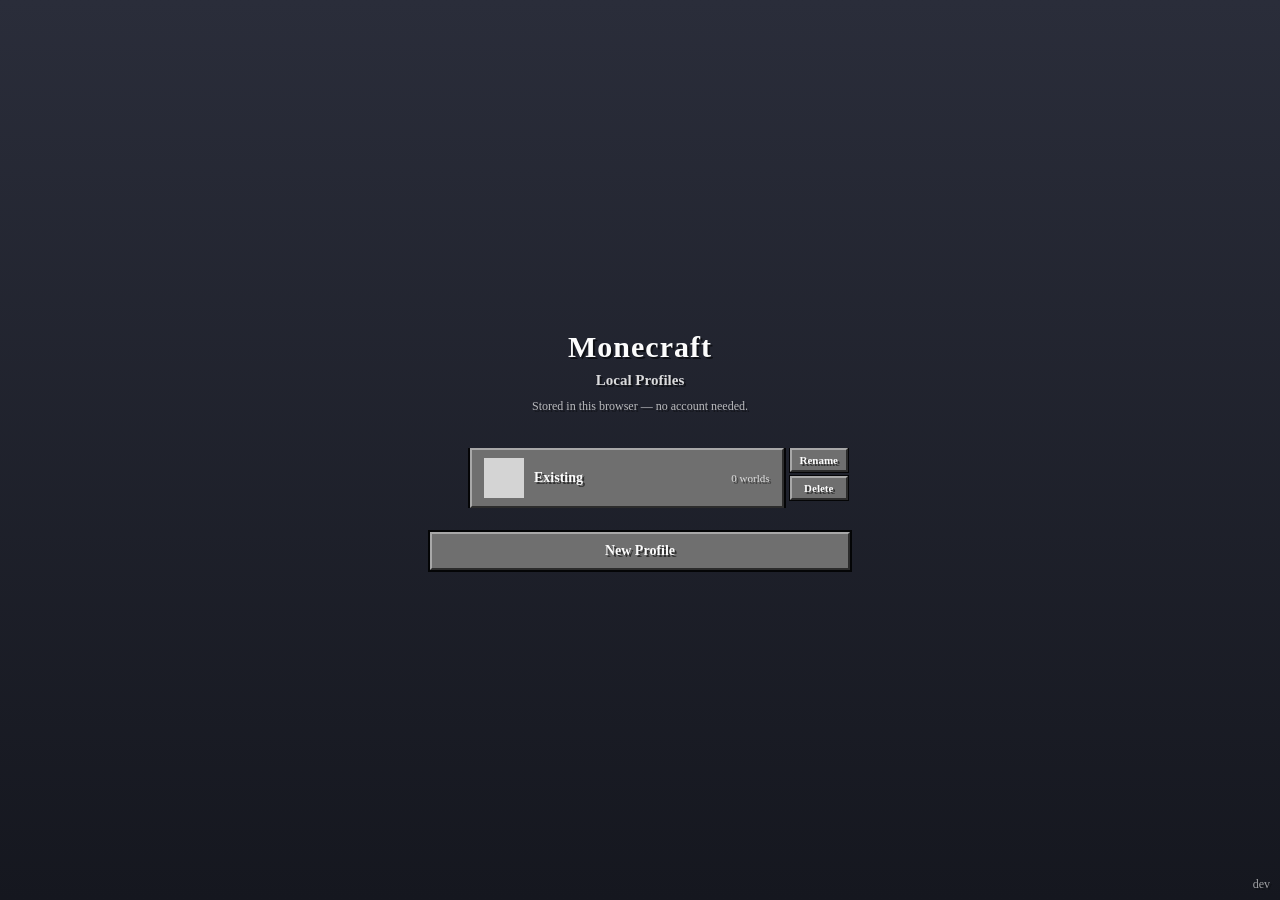
it: ProfileSelect › adding another profile from the list persists it and enters it
Step 1. Click the button with test id "new-profile" → (640, 551), box [430,532,850,570]
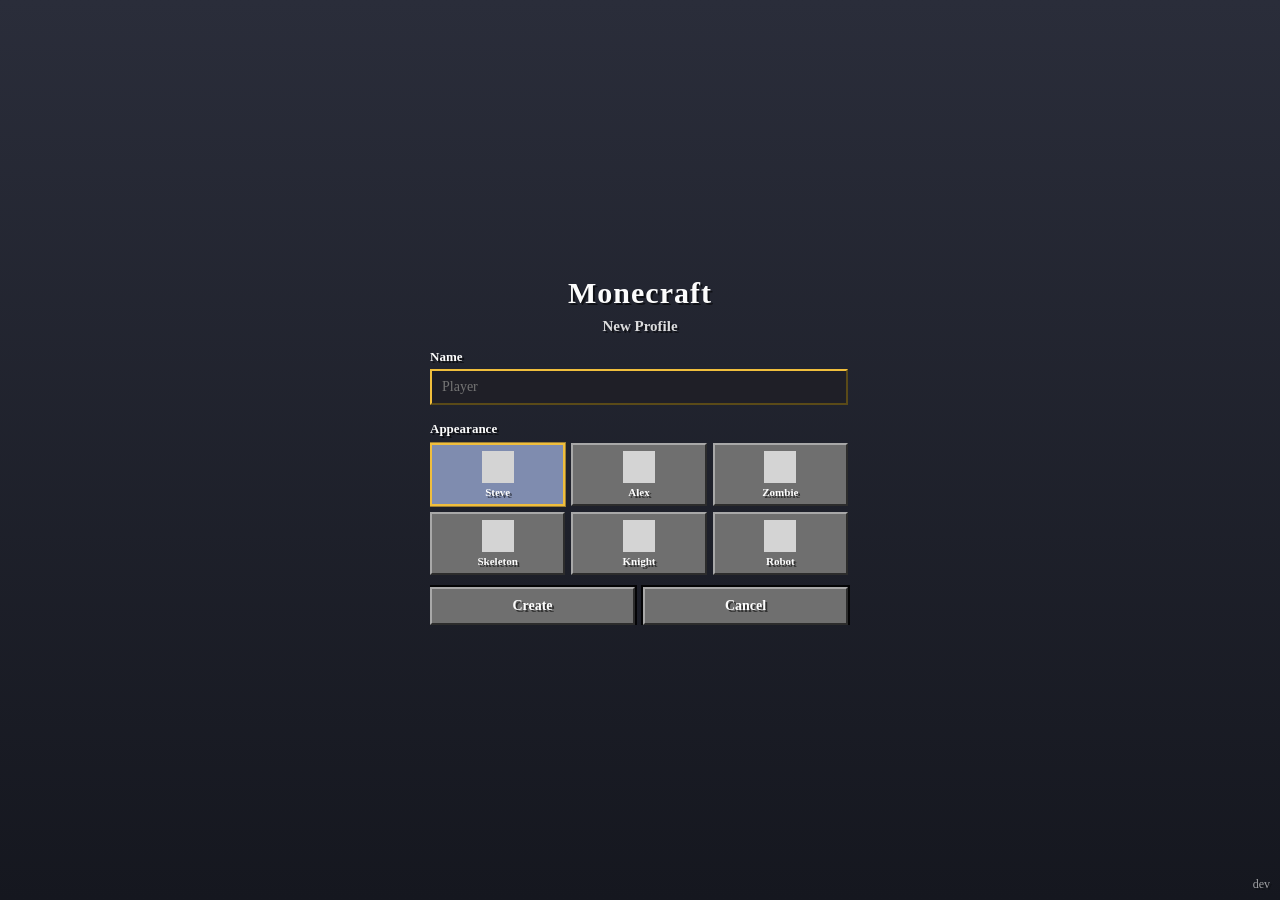
Step 2. Type "Charlie" into the field named "Profile name" → (639, 386), box [430,368,848,404]
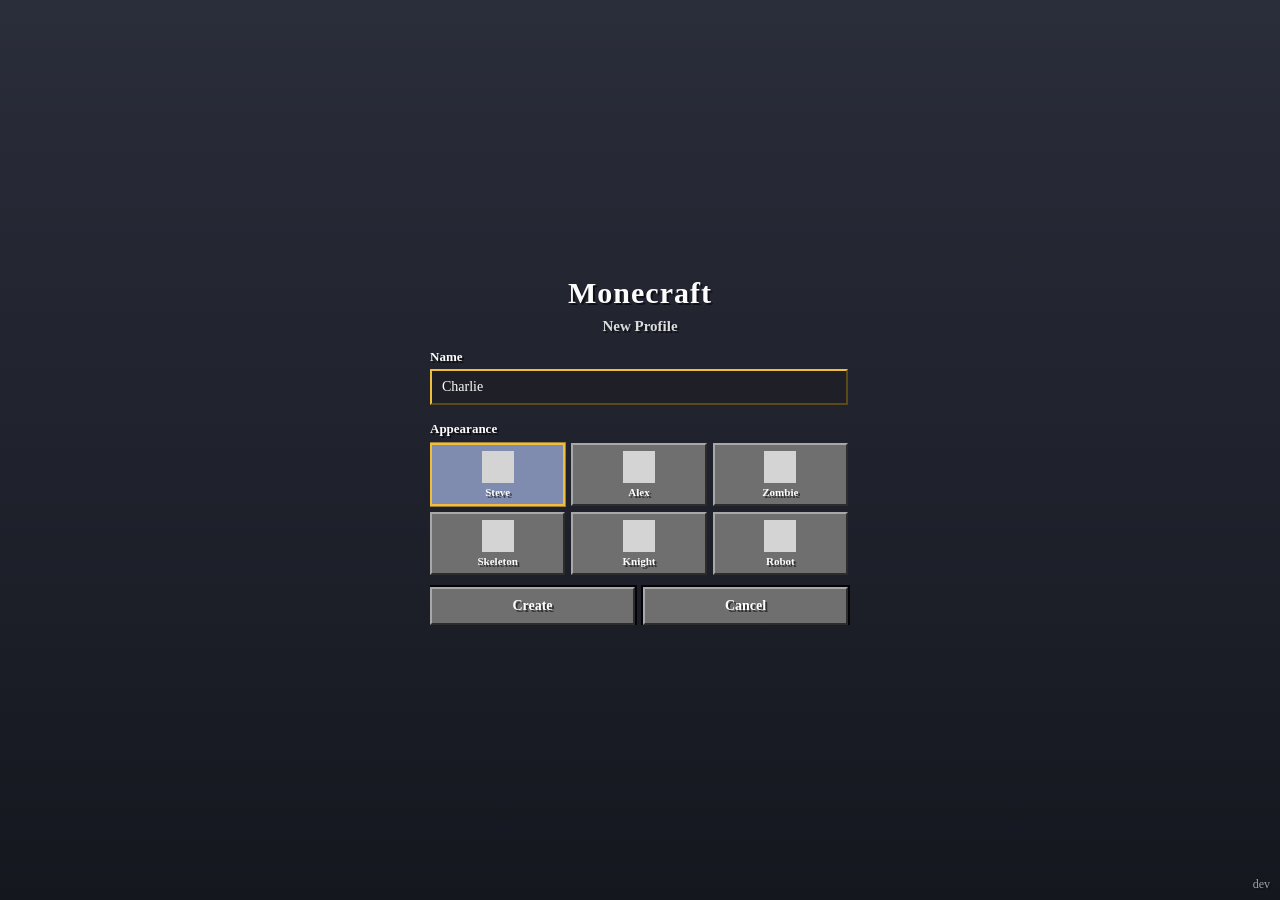
Step 3. Click the button "Create" → (532, 606), box [430,586,635,624]
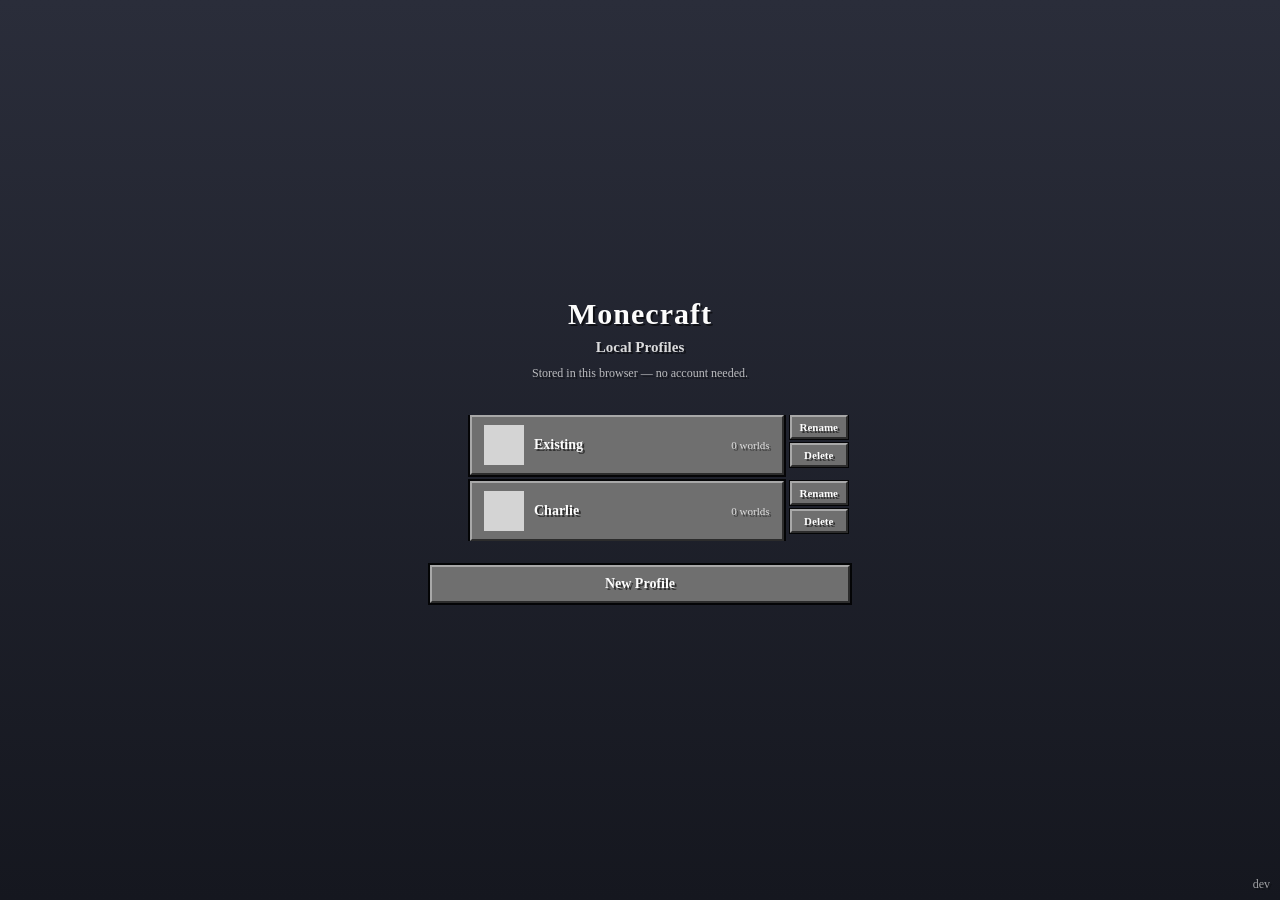
expect the text "Charlie" is shown: met, box [534,503,579,519]
